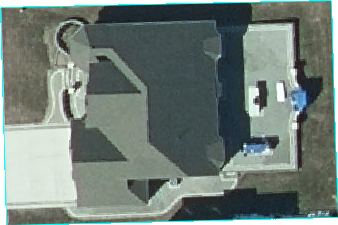house: (69, 19, 228, 210)
